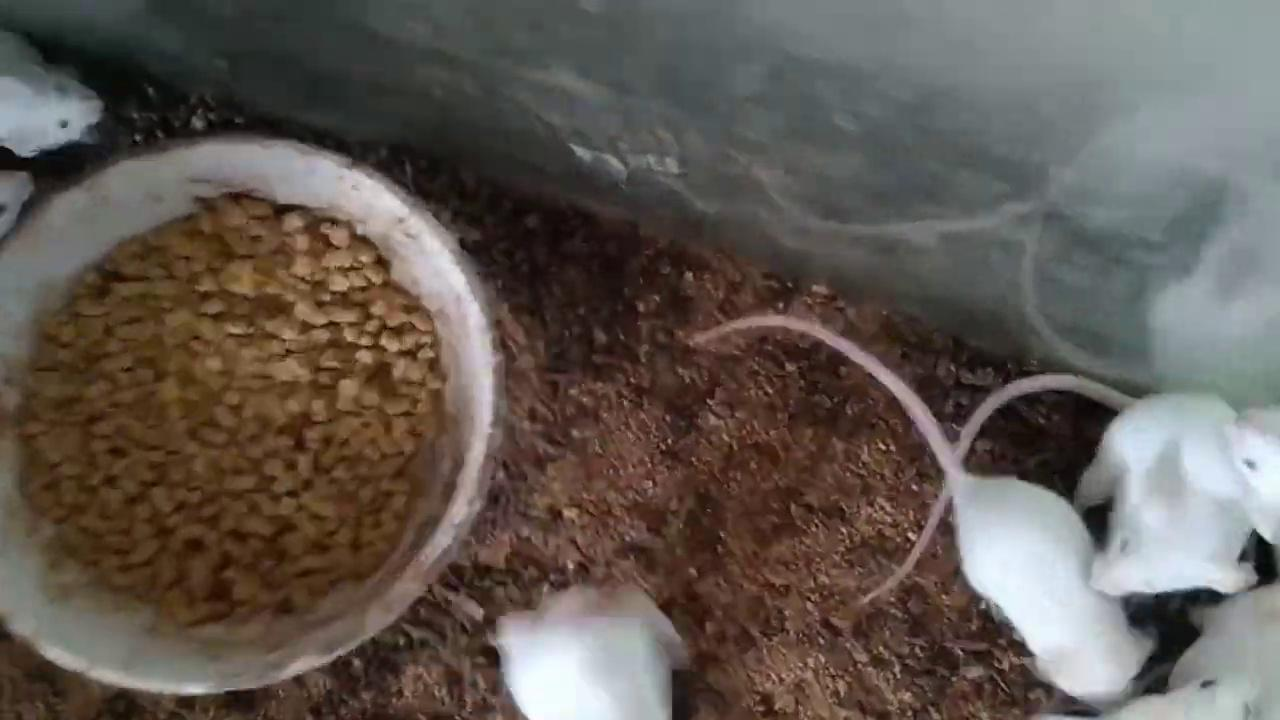rat: (694, 316, 1160, 698), (869, 374, 1262, 599), (0, 32, 103, 156)
